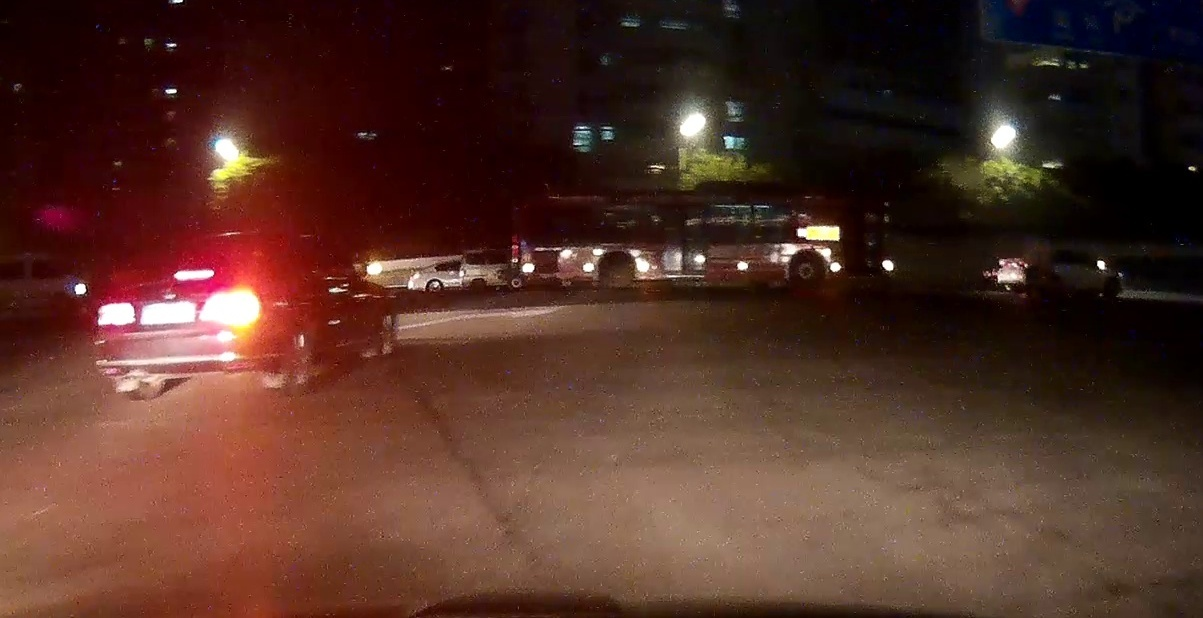L_light: (95, 302, 137, 326)
R_light: (200, 289, 261, 326)
T_light: (173, 269, 215, 281)
night-right: (95, 230, 263, 399)
